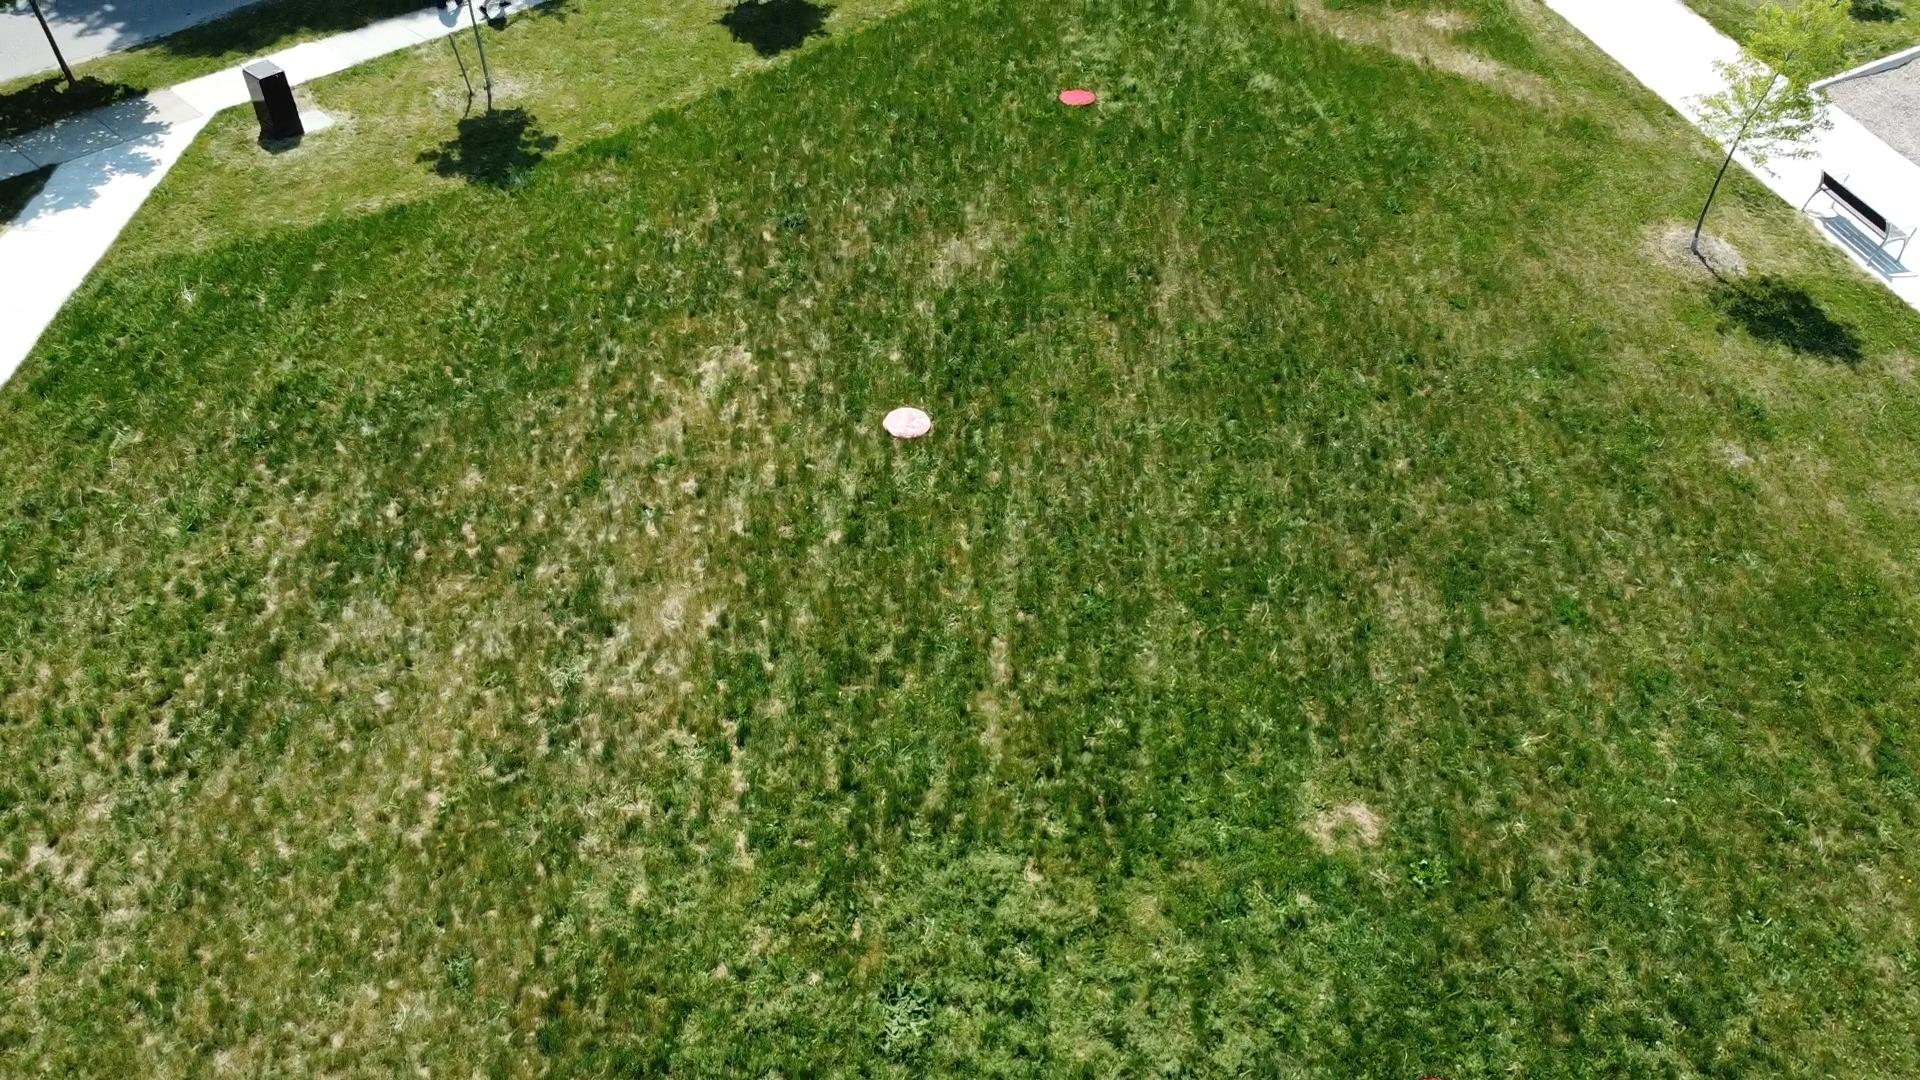Red: (881, 406, 931, 439), (1059, 87, 1097, 108)
